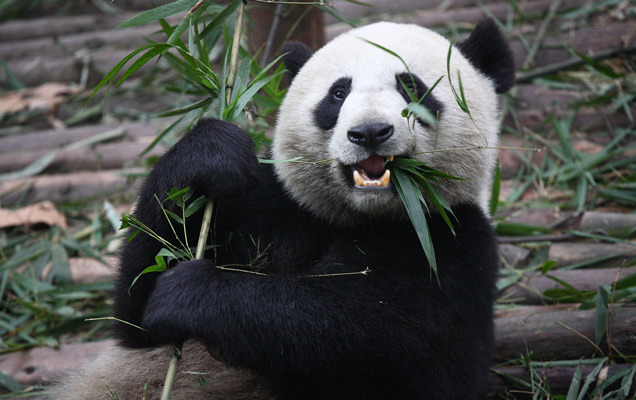Giant panda: (271, 10, 514, 225)
